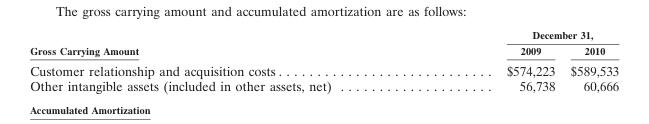table: (29, 28, 618, 93)
table column: (29, 28, 418, 93), (418, 28, 562, 93), (562, 28, 618, 93)
table column header: (29, 28, 618, 59)
table row: (29, 59, 618, 77), (29, 42, 618, 59), (29, 77, 618, 93), (29, 28, 618, 42)
table spanning cell: (29, 28, 418, 59), (418, 28, 618, 42)
